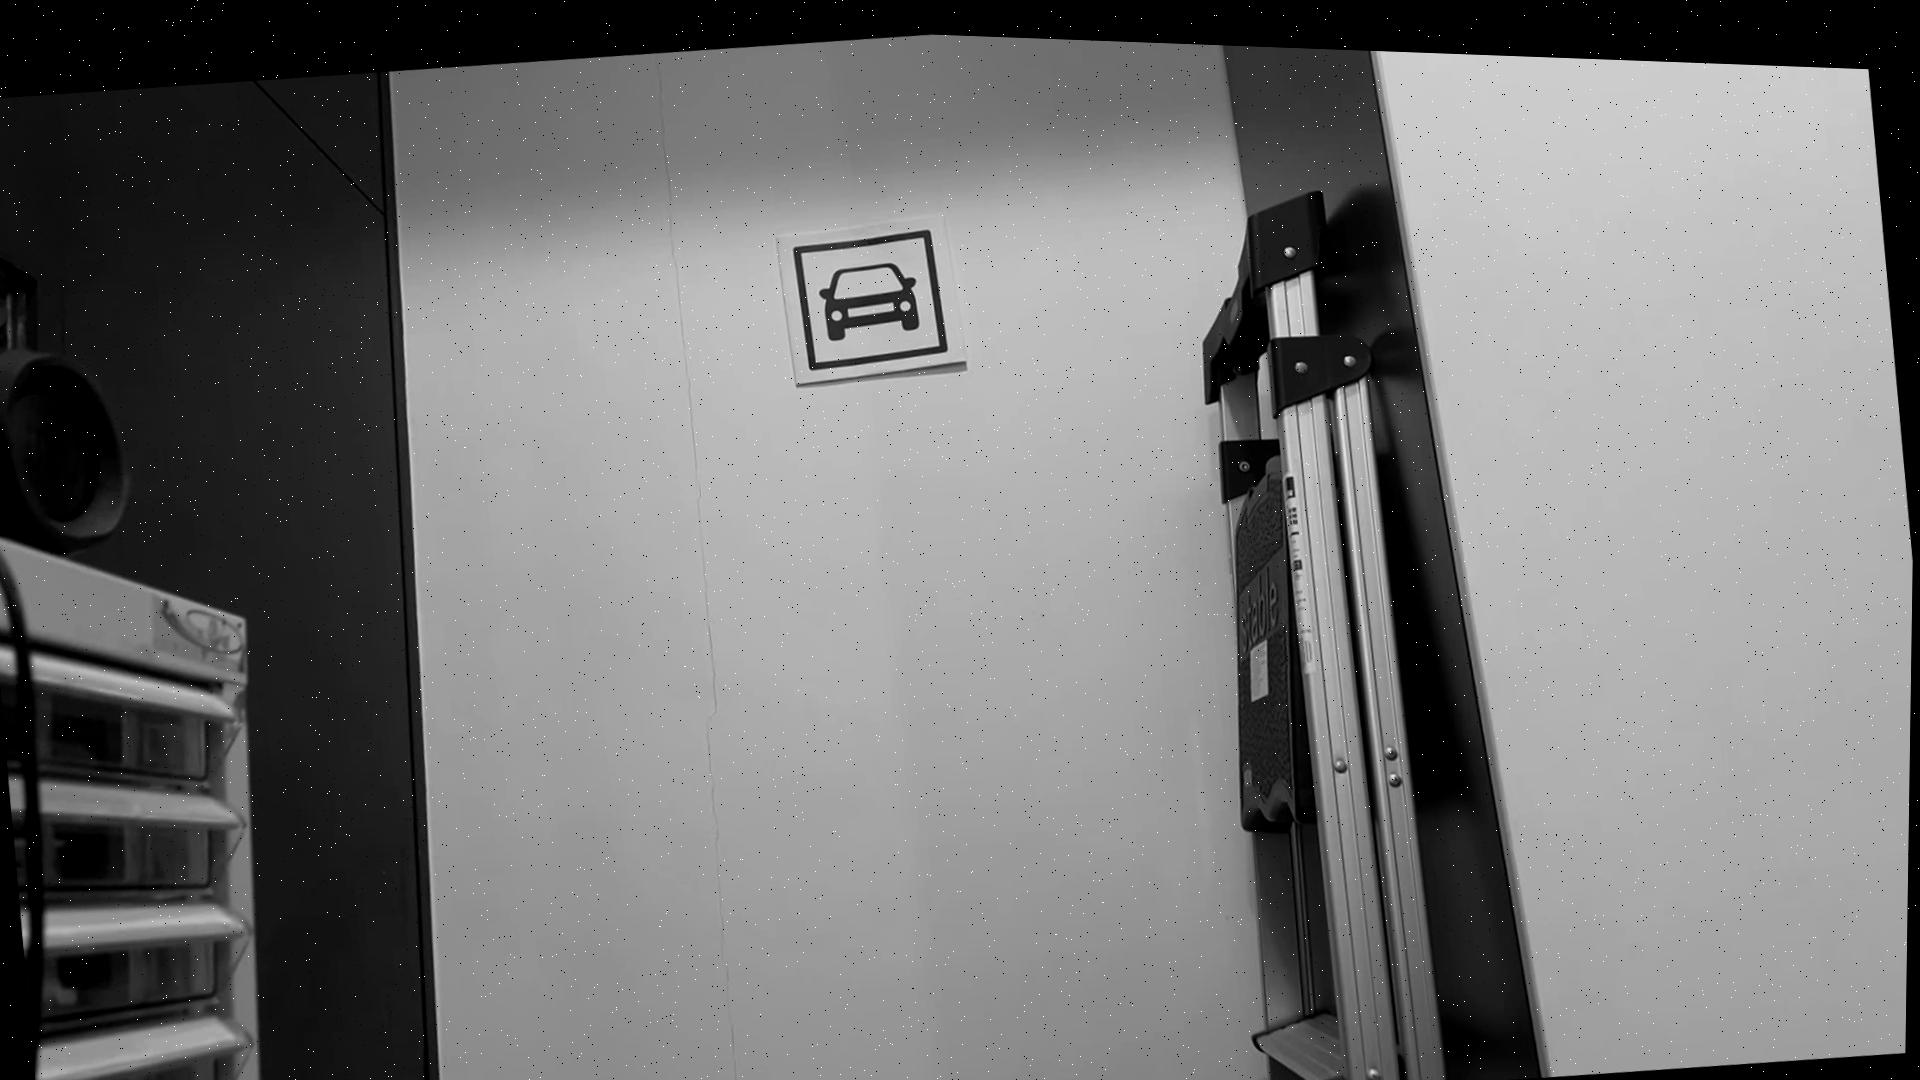car_img: (790, 215, 952, 371)
